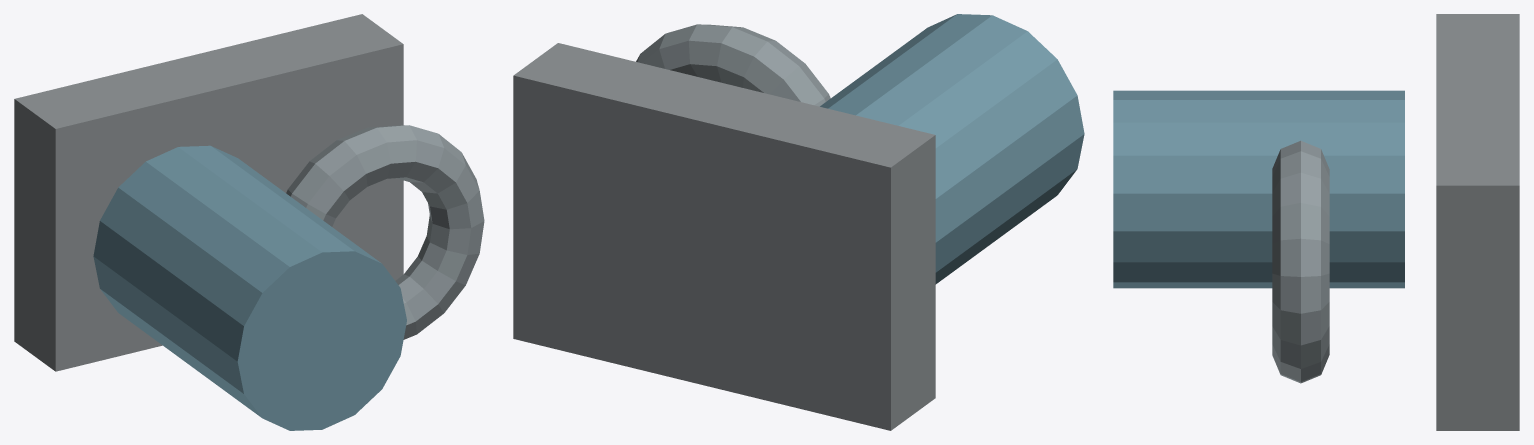
Rendered from pump.glb.
3 views of the same model, side by side, from view 1: azimuth 30°, elevation 25°; view 2: azimuth 150°, elevation 25°; view 3: azimuth 270°, elevation 25° (orthographic). The views are drawn at different scales.
Parts seen in each view (by area): view 1: Base, Motor, PumpHousing; view 2: Base, Motor, PumpHousing; view 3: Motor, Base, PumpHousing.
Part boxes in pixels (x1,y1,x2,y2): Base: (14,14,403,371); Motor: (93,145,406,430); PumpHousing: (286,125,484,339); Base: (513,43,935,430); Motor: (820,14,1084,284); PumpHousing: (636,24,830,106); Motor: (1113,90,1404,288); Base: (1436,14,1519,430); PumpHousing: (1272,140,1329,383).
Size of the model in its own units: 0.805 by 0.52 by 0.78.
